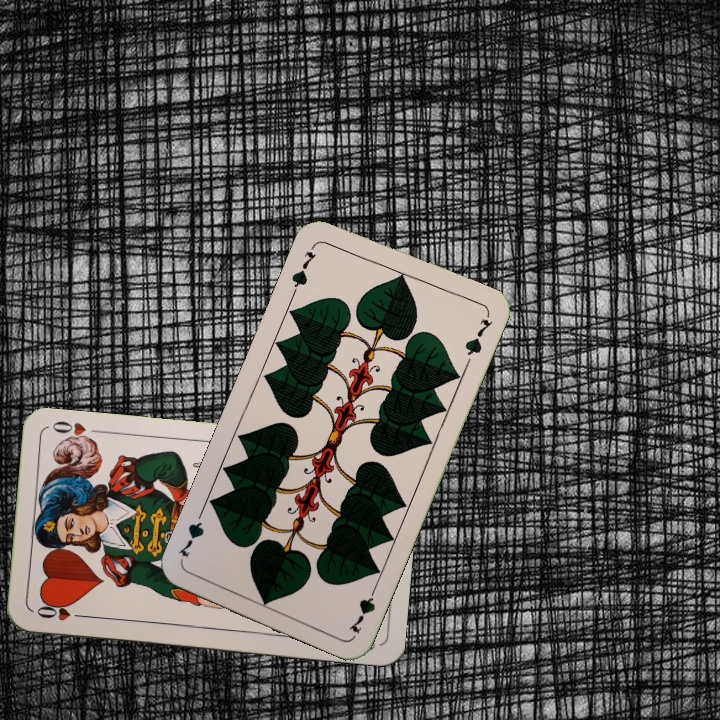G7: (344, 580, 380, 636), (287, 247, 319, 296)
HO: (32, 601, 90, 624)
